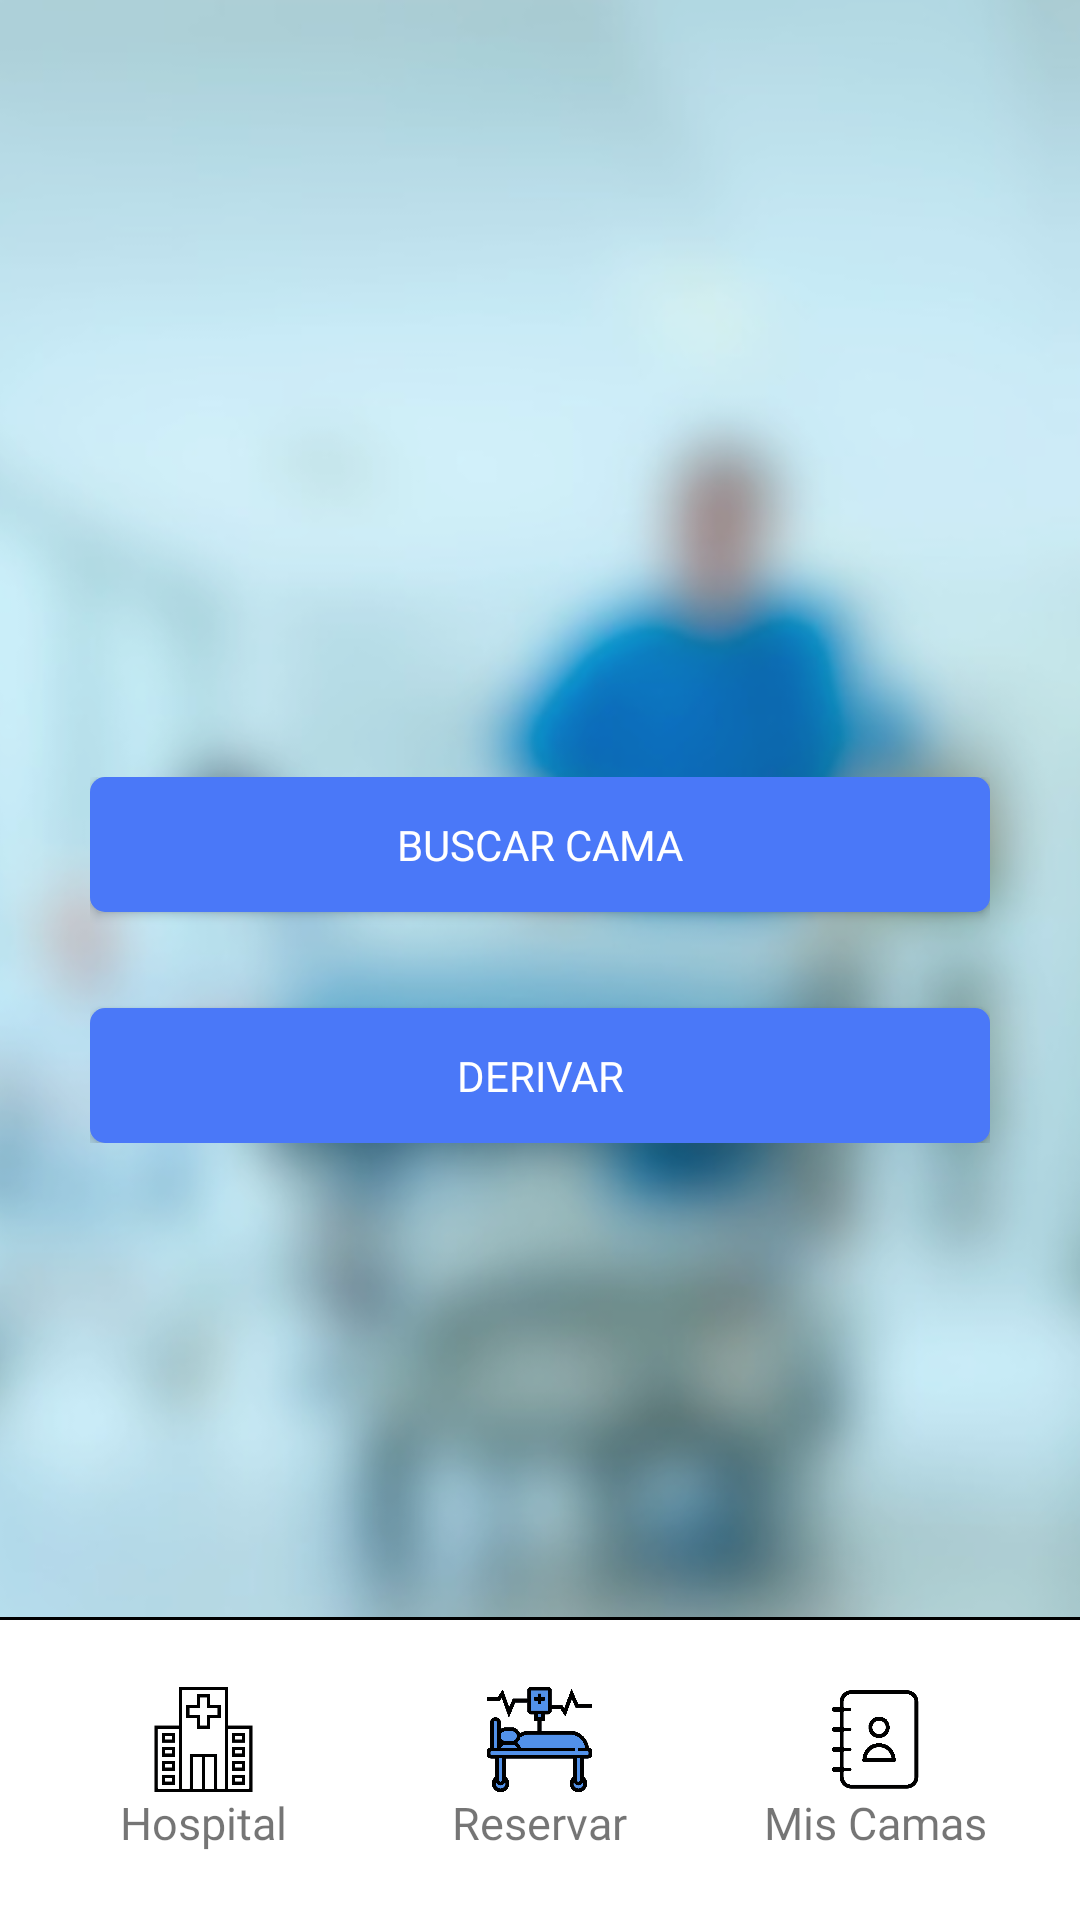

Where to tap for icons on this 1080*1920 app screen, as (x=x, y=y):
"icono del menú con una agenda blanca: (x=875, y=1739)
icono del menú con una camilla azul: (x=539, y=1739)
